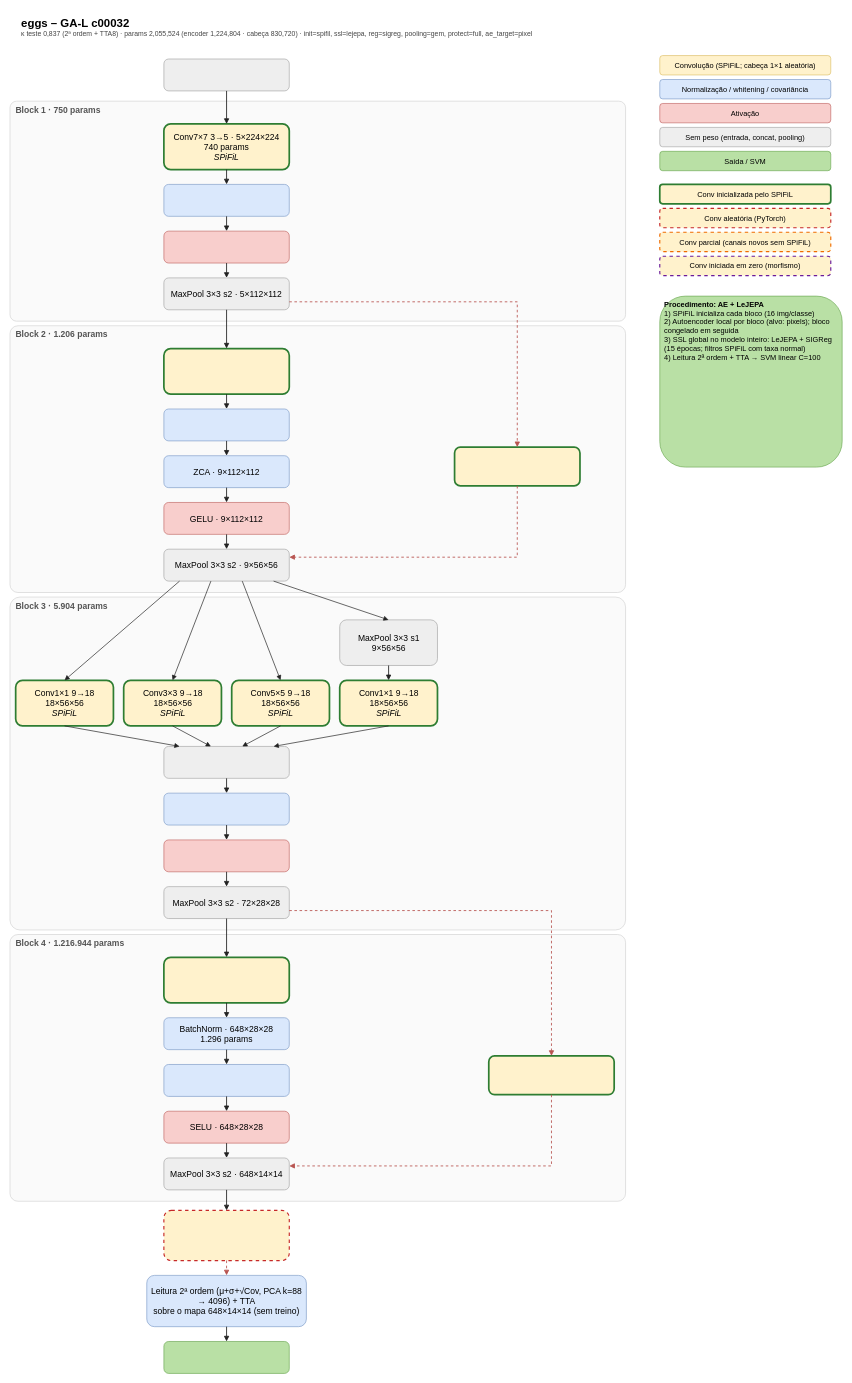
This 852x1383 diagram has some shape labels left out. The centre of each missing label's shape, as x and y in pixels:
"BatchNorm · 5×224×224 10 params" belongs at pixel 226 200.
"BatchNorm · 9×112×112 18 params" belongs at pixel 226 424.
"Cabeça Conv1×1 648→1280 · 1280×14×14 830.720 params aleatória" belongs at pixel 226 1235.
"Concat → 72 canais" belongs at pixel 226 762.
"Conv5×5 5→9 · 9×112×112 1.134 params SPiFiL" belongs at pixel 226 371.
"Conv5×5 72→648 · 648×28×28 1.167.048 params SPiFiL" belongs at pixel 226 979.
"DBN · 648×28×28 1.296 params" belongs at pixel 226 1080.
"Entrada 3×224×224" belongs at pixel 226 74.
"GELU · 72×56×56" belongs at pixel 226 855.
"Residual Conv1×1 5→9 9×112×112 SPiFiL" belongs at pixel 517 466.
"Residual Conv1×1 72→648 648×28×28 SPiFiL" belongs at pixel 551 1075.
"SELU · 5×224×224" belongs at pixel 226 247.
"SVM linear C=100 (teste)" belongs at pixel 226 1357.
"ZCA · 72×56×56" belongs at pixel 226 809.
